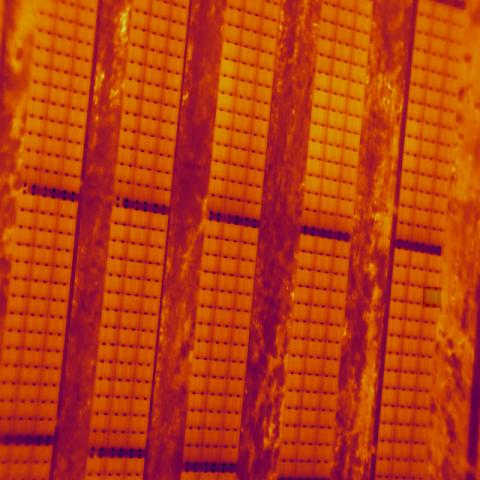fault: (423, 287, 441, 308)
